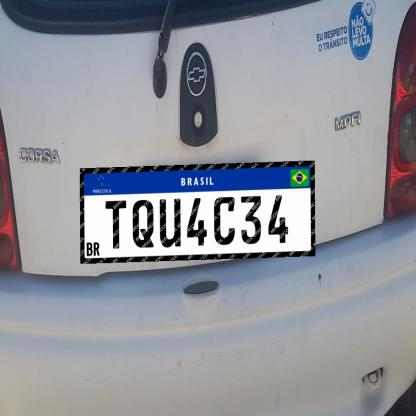PlacaM: (80, 160, 315, 263)
